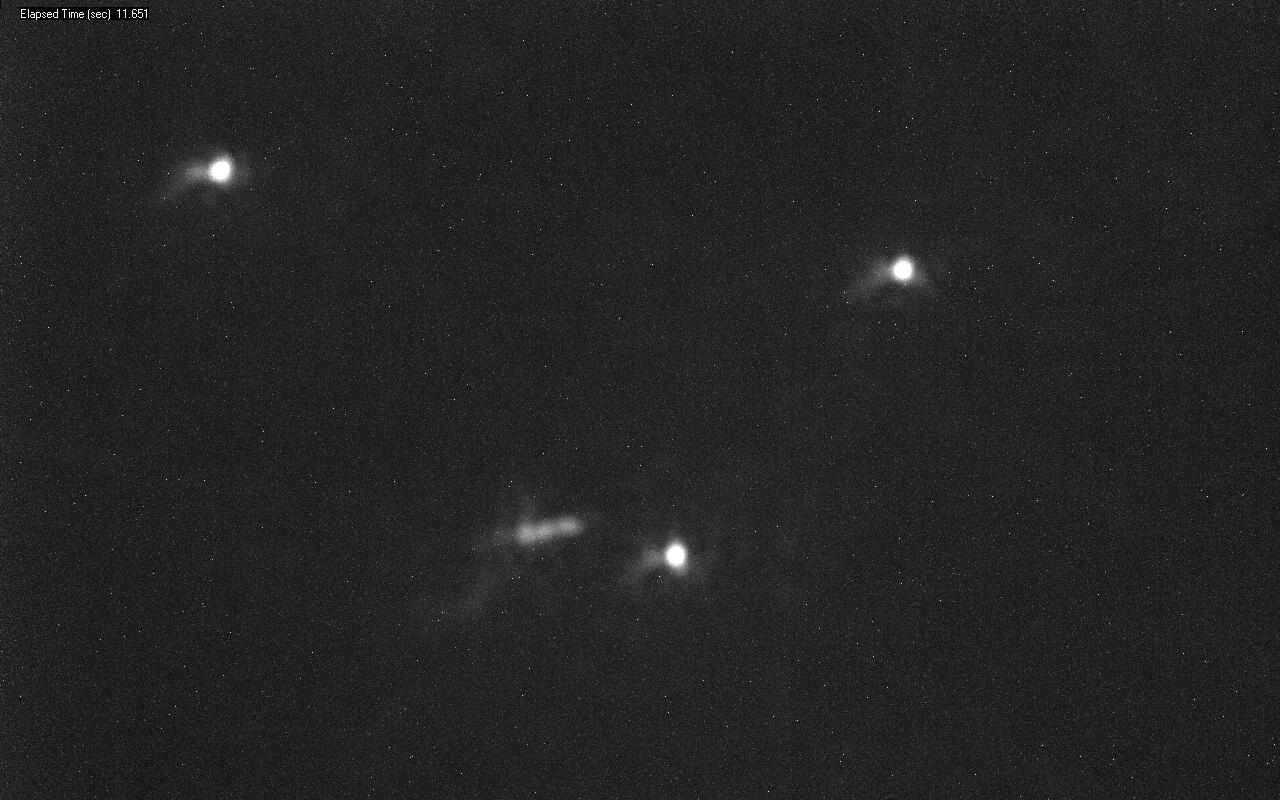Bead: (207, 158, 233, 183), (889, 258, 914, 282), (664, 543, 686, 567)
